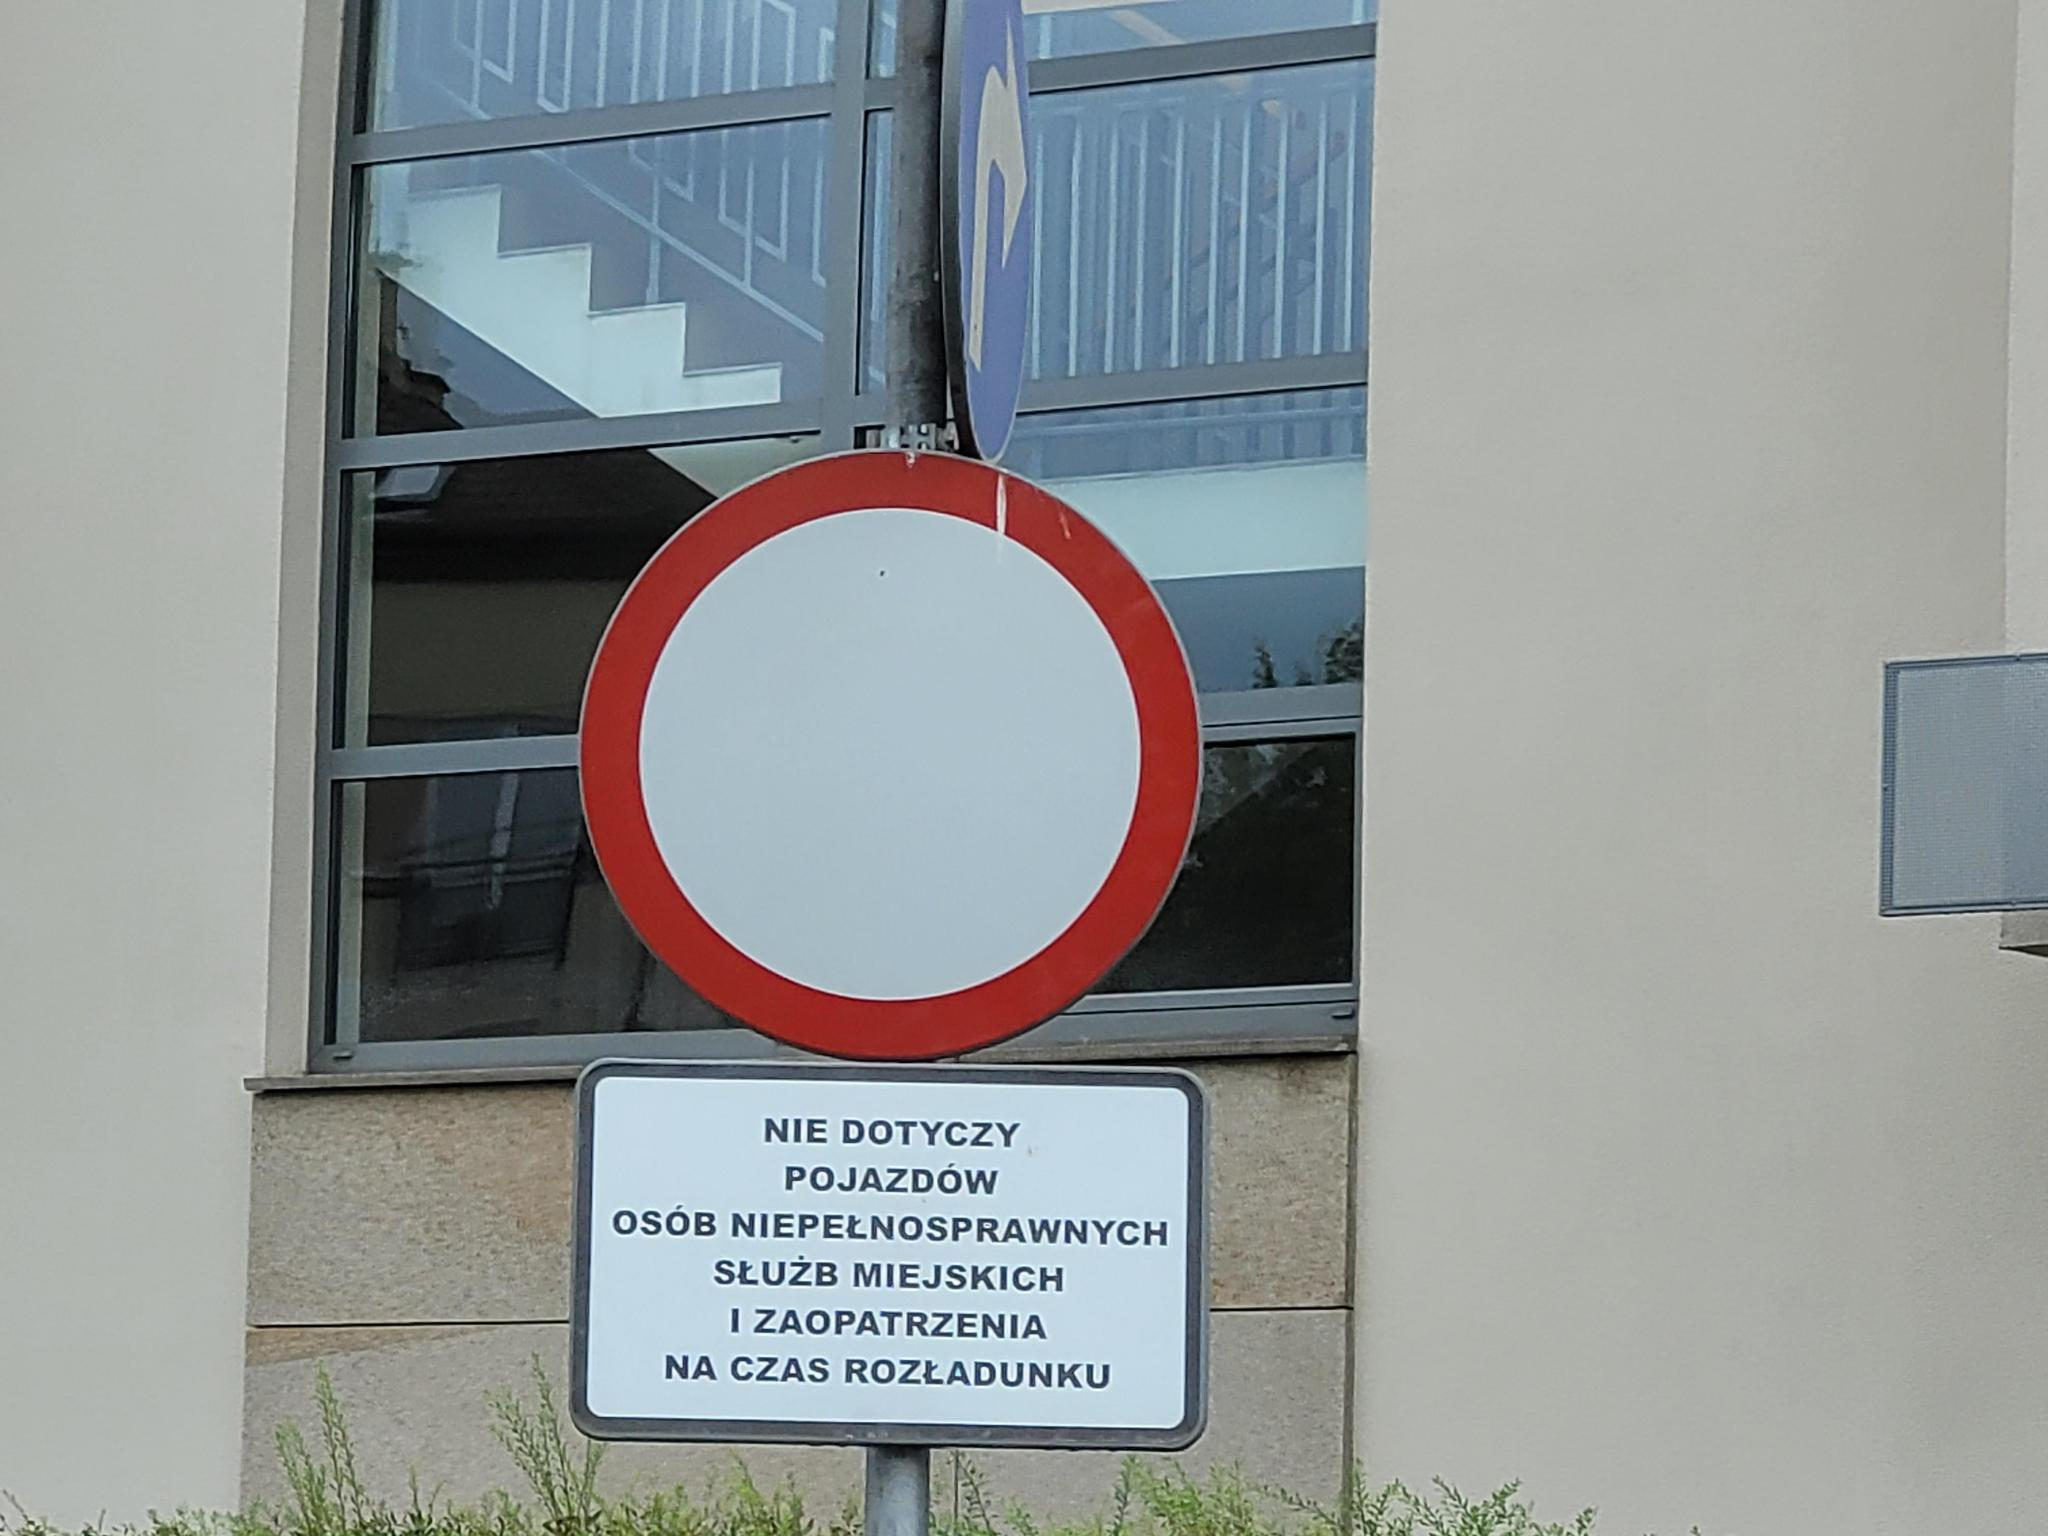mandatory: (932, 0, 1043, 470)
prohibitory: (577, 447, 1211, 1070)
